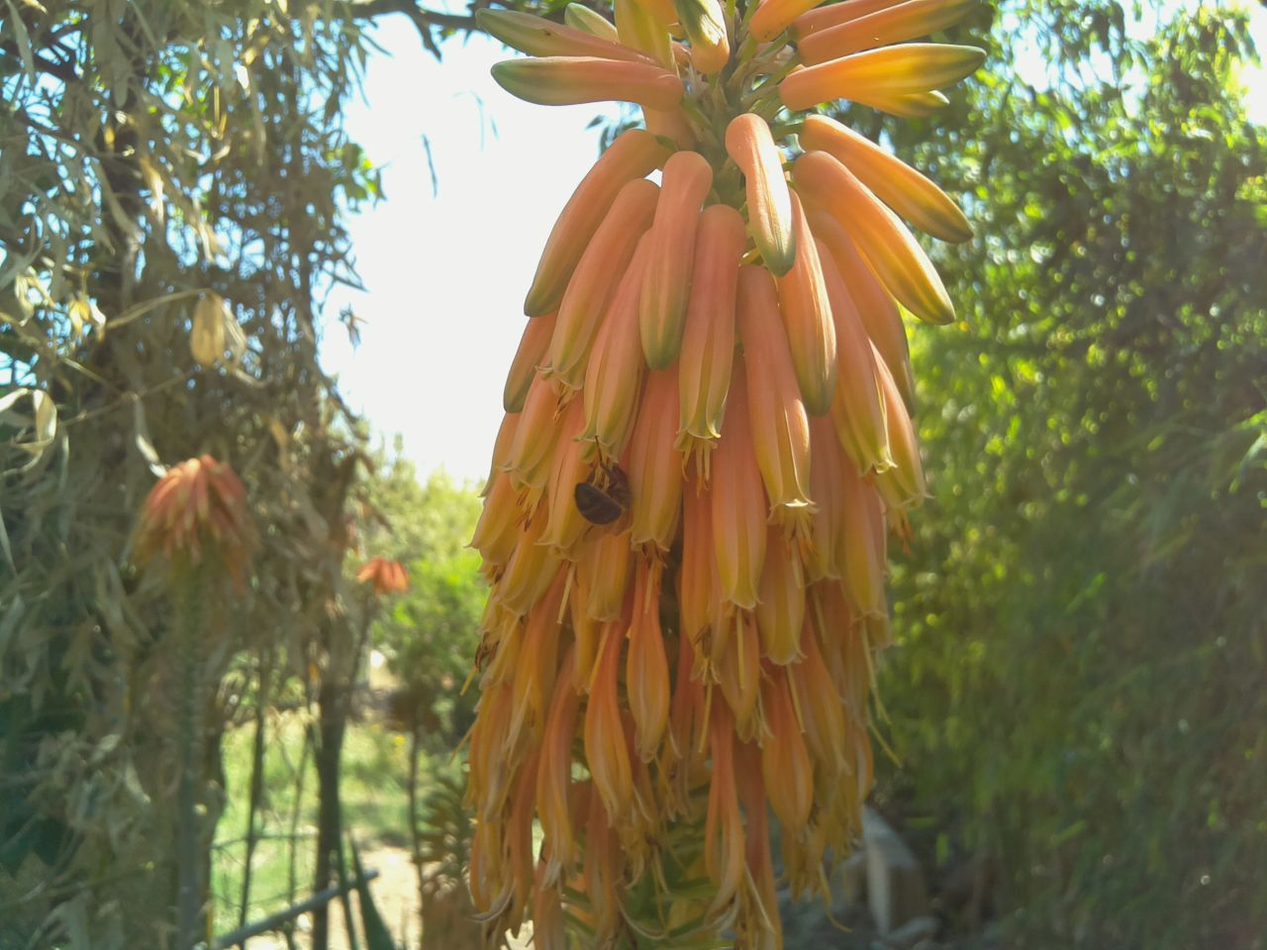Apis mellifera: (541, 431, 633, 540)
